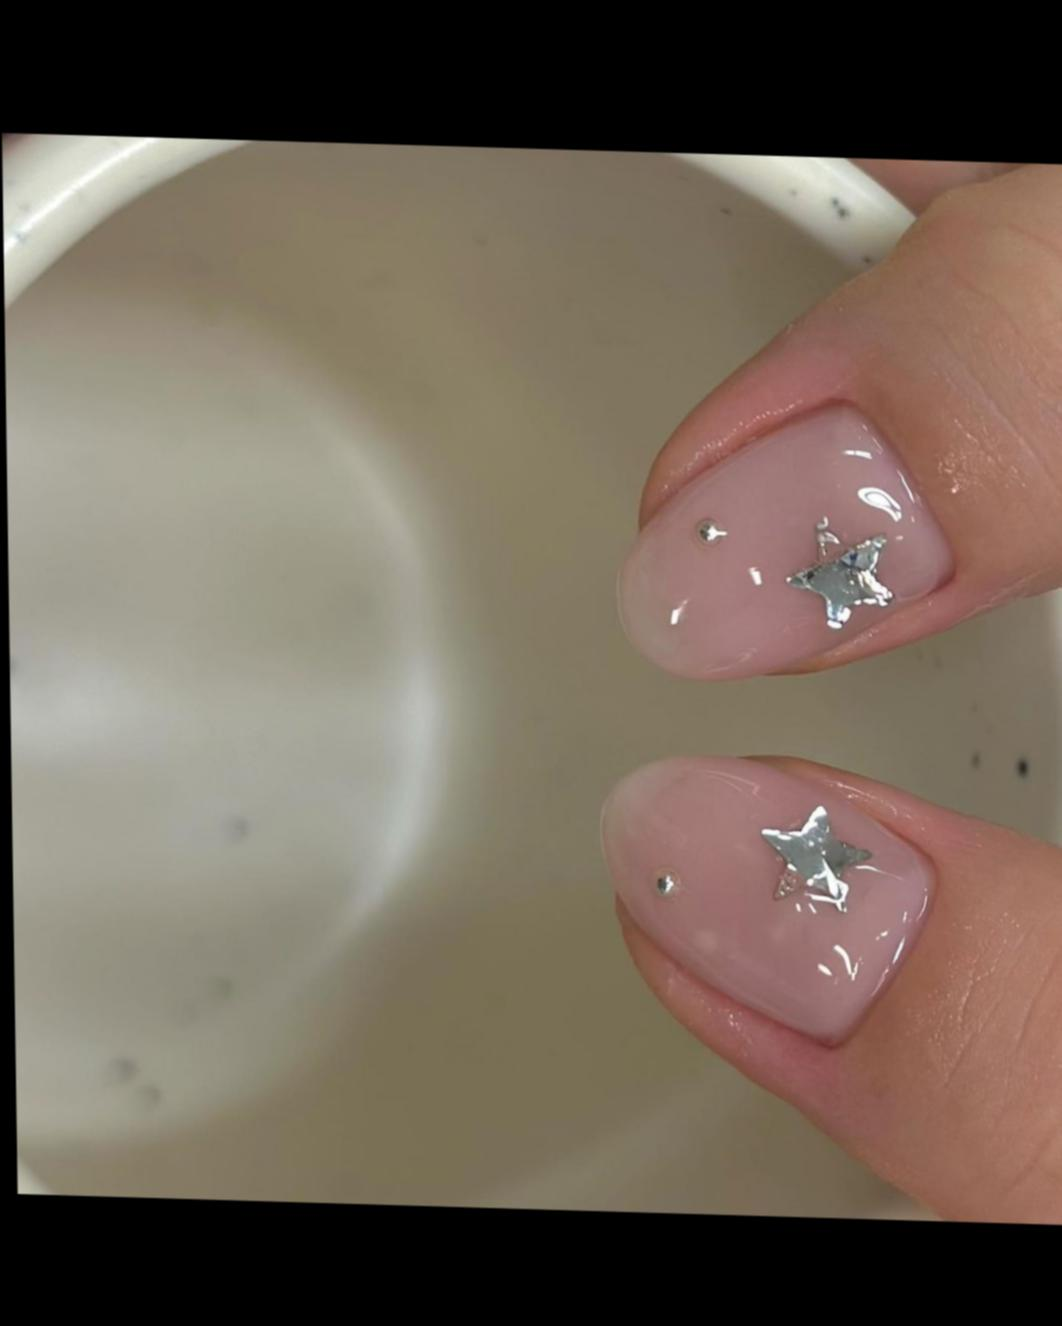nail: (598, 749, 946, 1052), (614, 393, 962, 690)
